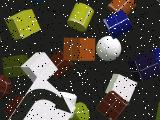Right: (8, 74, 76, 120)
